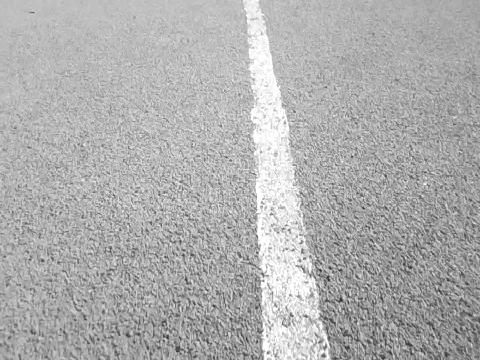Lines: (242, 0, 334, 360)
